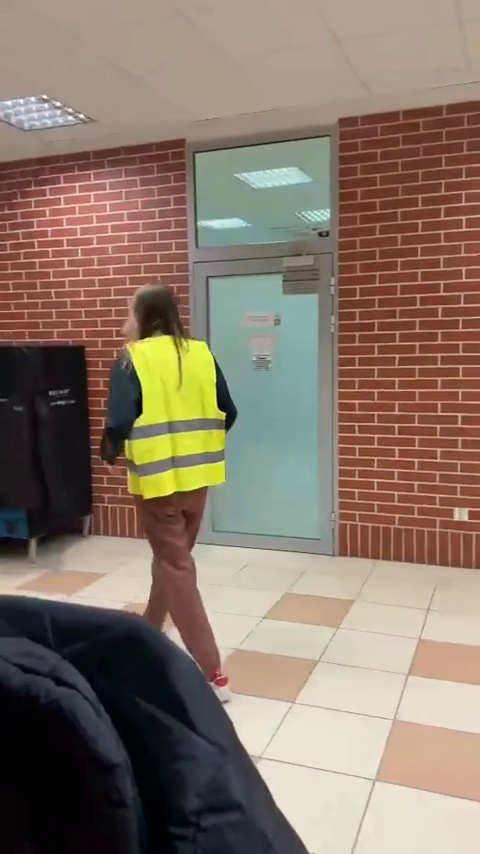vest: (89, 286, 246, 700)
